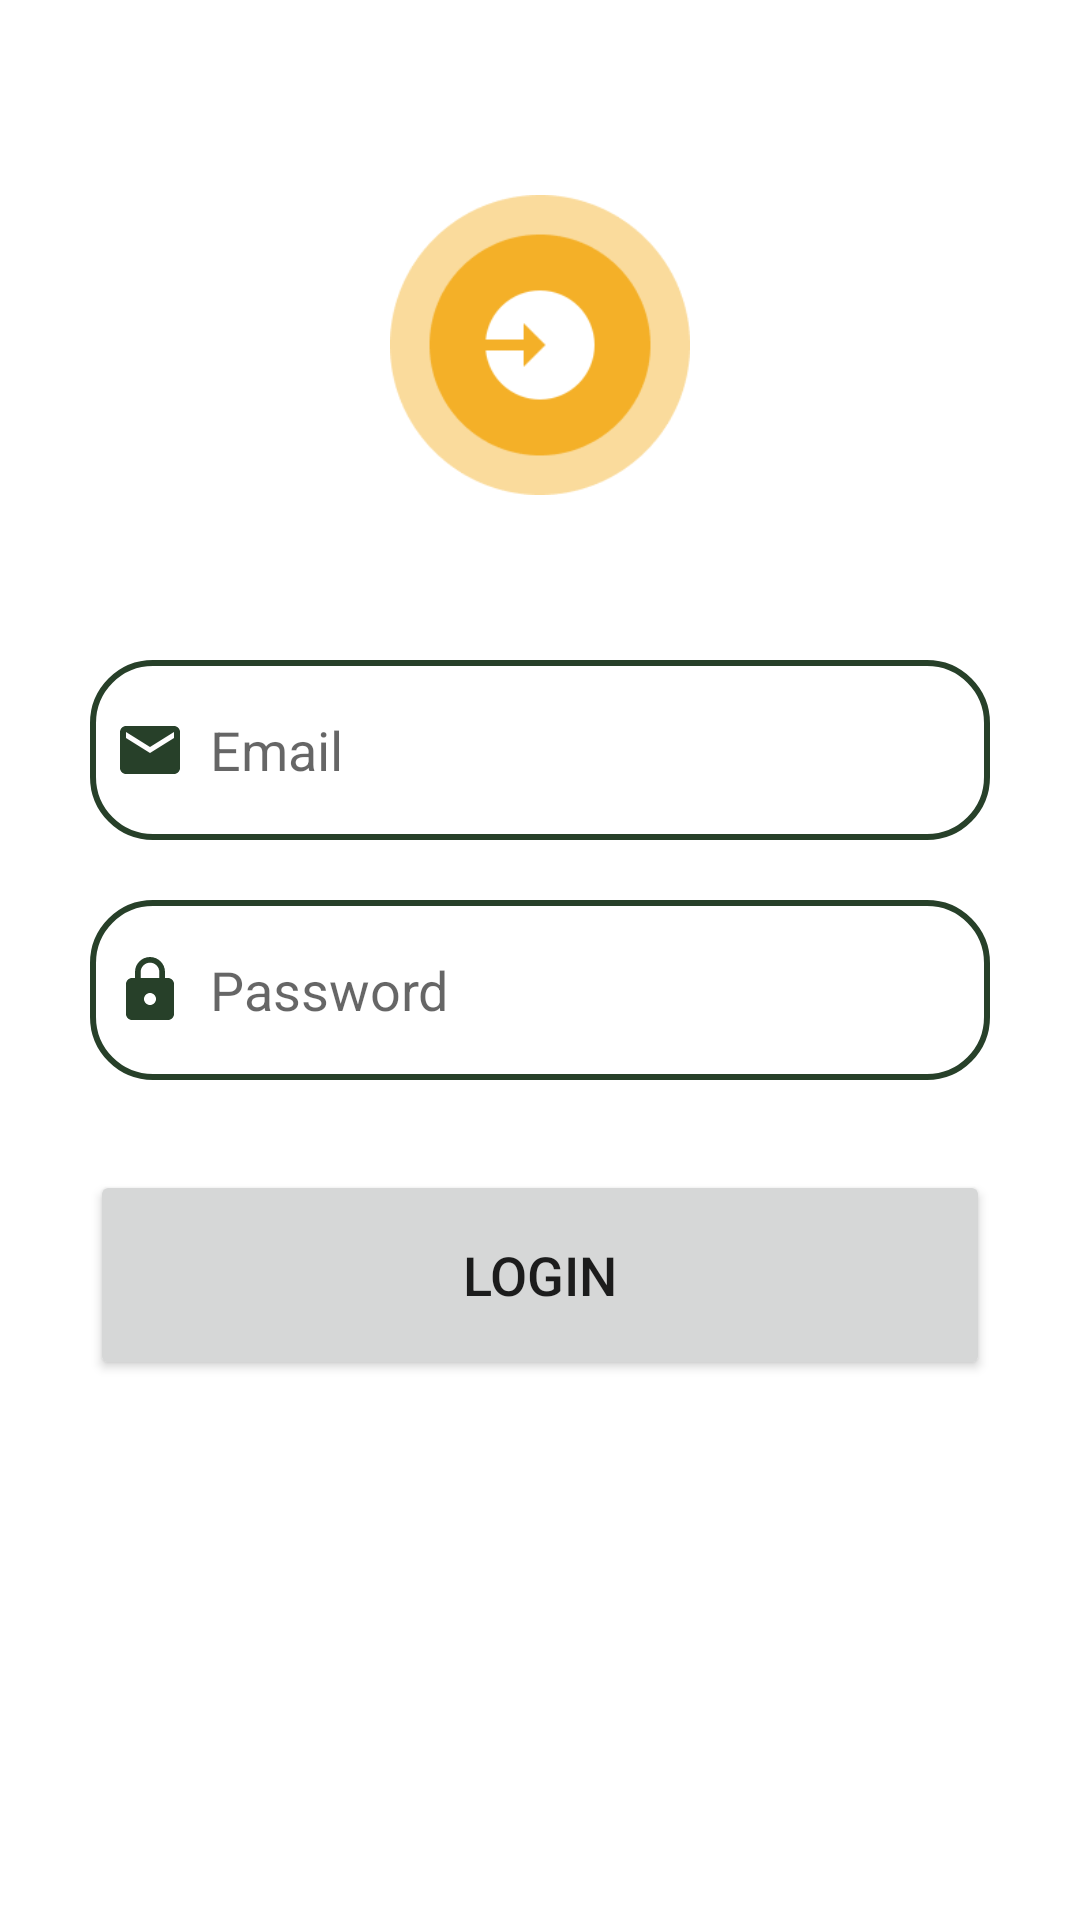

Screen size 1080x1920. Icon name, then its center in pixels as point (x, y):
login: point (540, 345)
